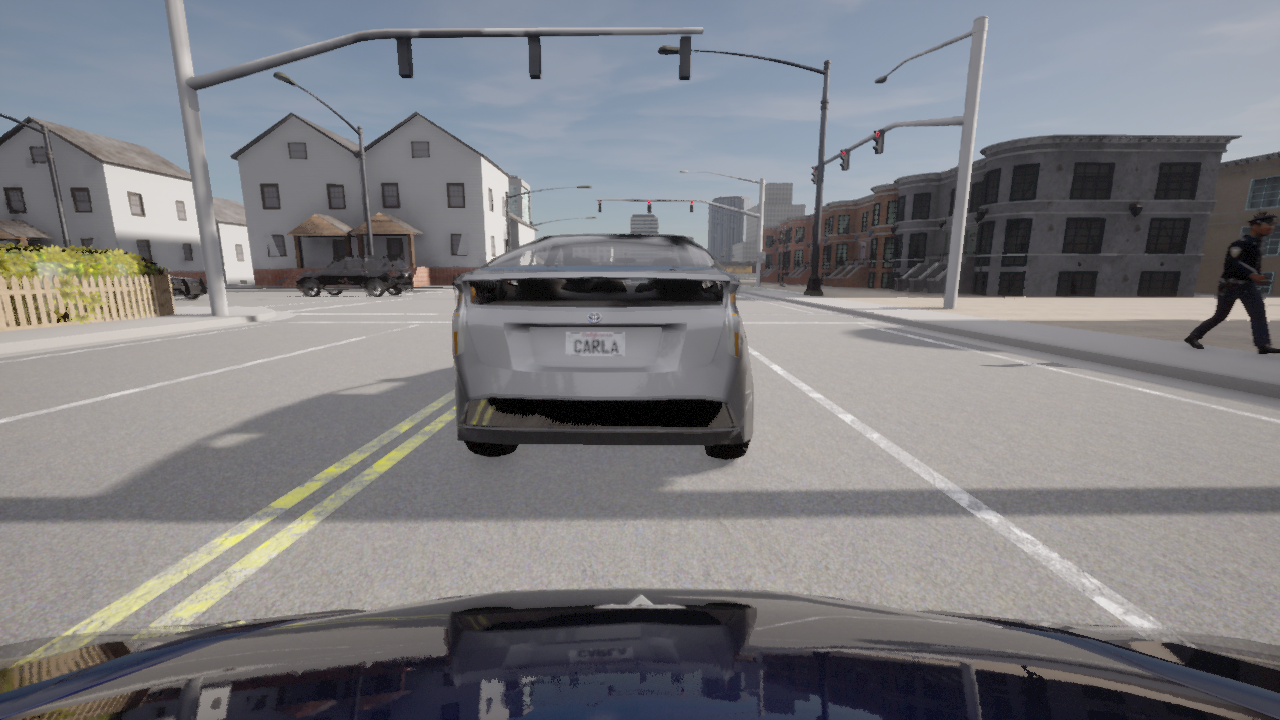cyclist: (0, 588, 1279, 719), (452, 234, 753, 458), (295, 257, 412, 296), (166, 268, 206, 298)
pedestrian: (1183, 215, 1279, 354)
